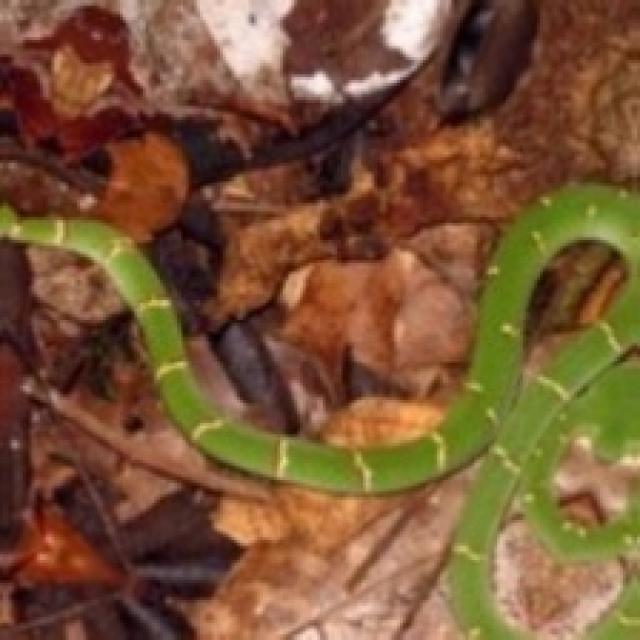north ph temple pitviper: (0, 186, 640, 639), (594, 576, 640, 640)
